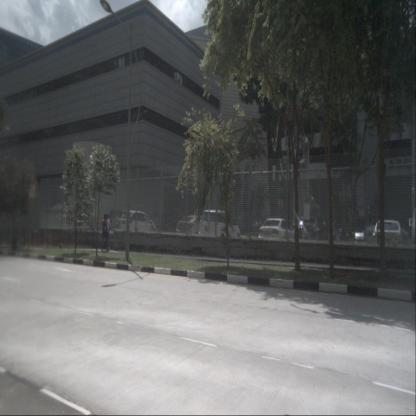human-pedestrian-adult: (103, 215, 114, 250), (101, 214, 109, 252)
vehicle-car: (198, 210, 240, 241), (258, 218, 294, 244), (374, 220, 402, 252), (120, 211, 157, 235), (176, 216, 208, 238)
